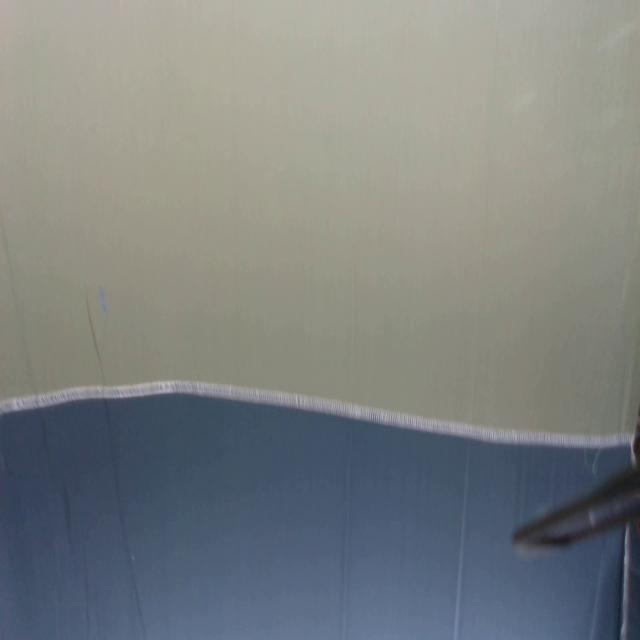crease: (84, 294, 145, 636), (2, 211, 48, 445), (454, 358, 476, 640), (342, 266, 357, 639)
